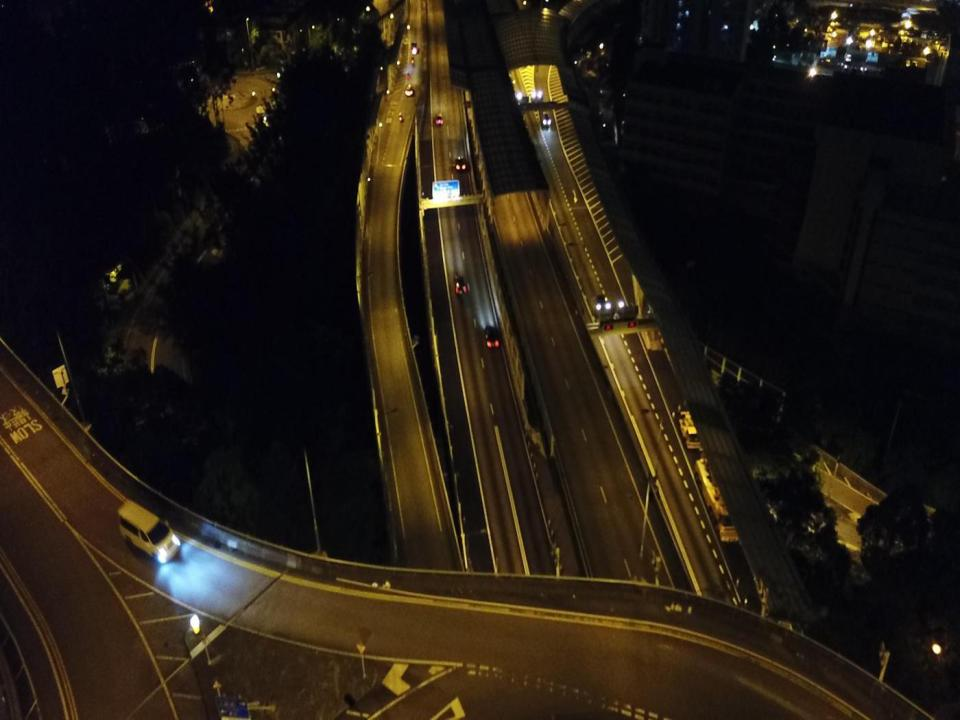car: (483, 324, 500, 348), (452, 273, 468, 296), (454, 154, 468, 172), (409, 40, 419, 56), (404, 83, 414, 98), (434, 112, 444, 125), (542, 112, 550, 127)
truck: (694, 456, 744, 544), (677, 409, 706, 449)
van: (117, 499, 182, 563)
